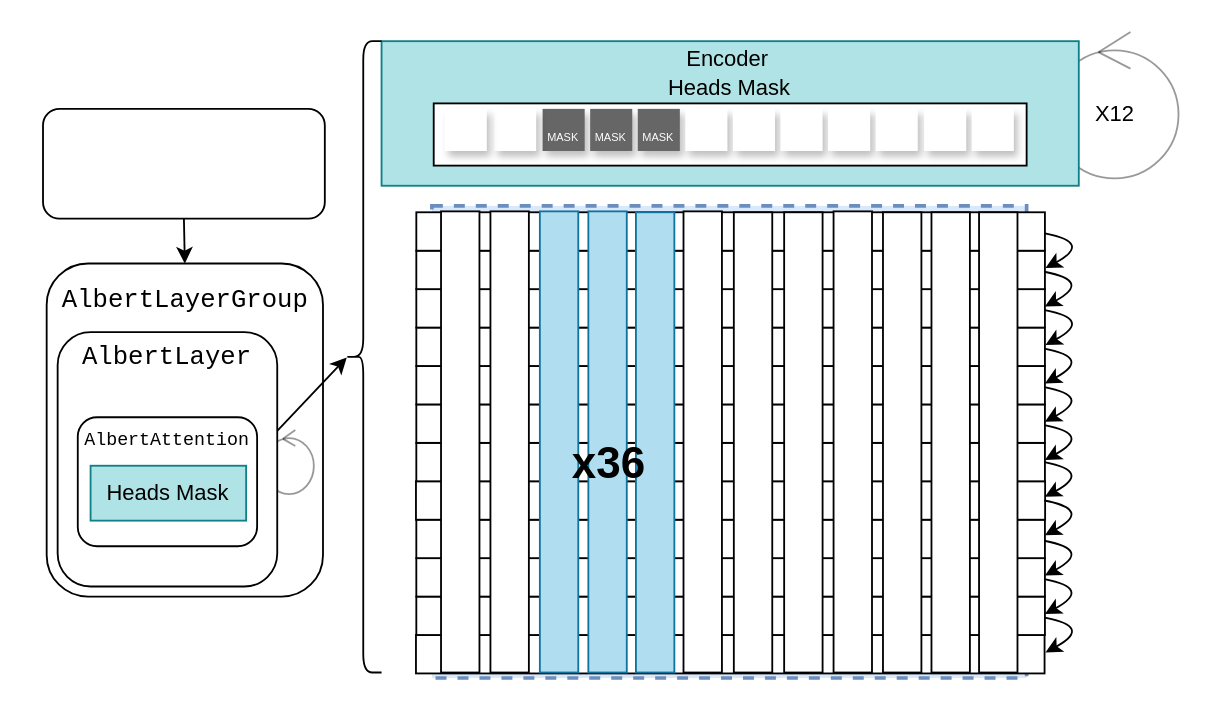
The diagram is 1211 pixels wide and 712 high, and some of its shapes have lost their labels. Here are the shapes that lost their labels. From the top down, the centre of each, then its label:
At point (183, 163): "AlbertEmbeddings".
At point (288, 461): "x 12".
